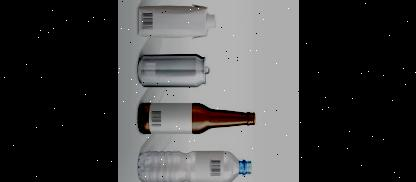Can: (136, 54, 204, 88)
Others: (136, 102, 254, 134)
Plastic Bottle: (137, 149, 255, 182)
